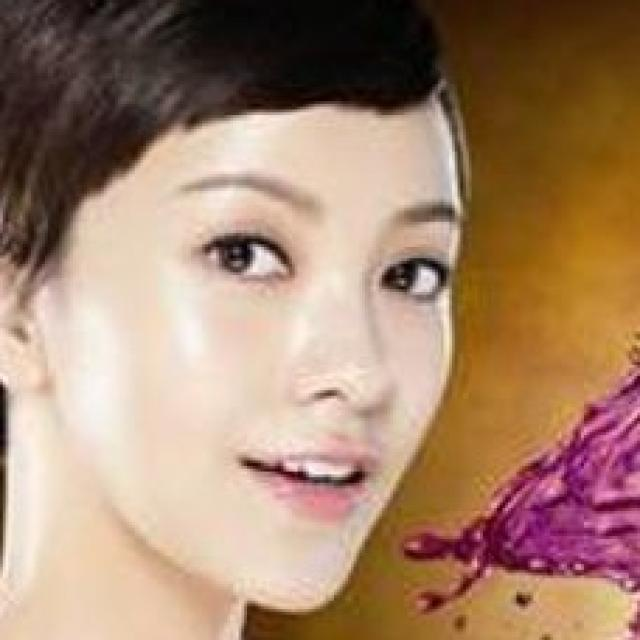Normal: (54, 81, 467, 619)
